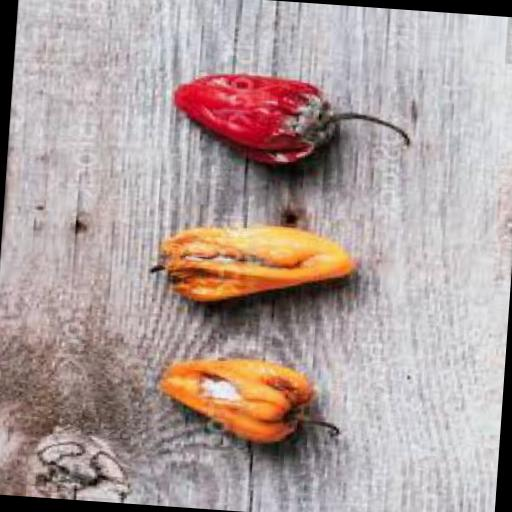biodegradable: (163, 67, 412, 172), (145, 216, 357, 310), (152, 351, 340, 444)
